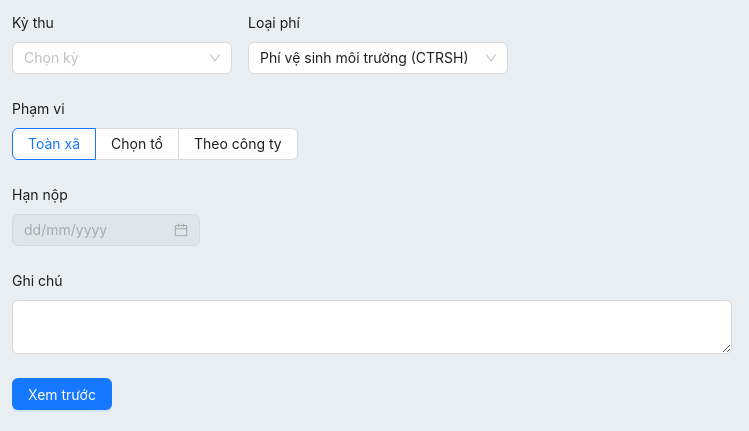
Test: ChargeRequestForm › thiếu kỳ thì báo lỗi; kỳ đã khóa không có trong danh sách
Click the button "Xem trước" at x=62, y=394, box [12,378,112,410]
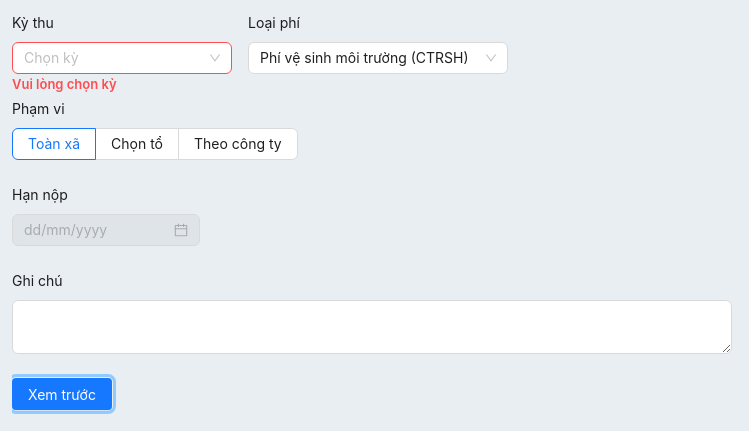
Expected: the text "Vui lòng chọn kỳ" is shown, [12,76,117,92]
Click the dropdown labelled "Kỳ thu" at x=40, y=23, box [12,12,68,34]
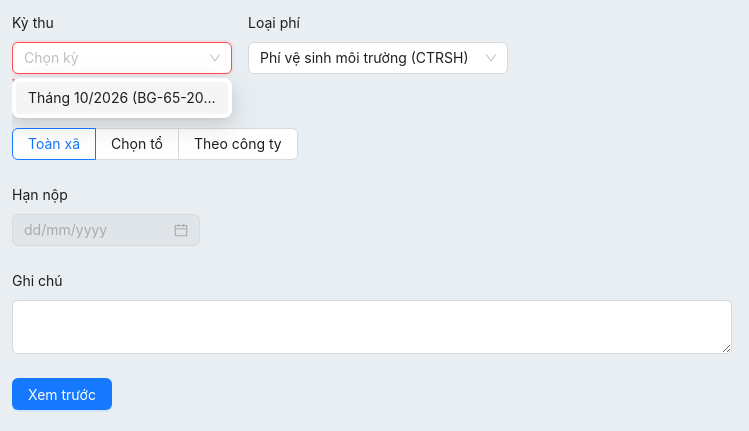
Expected: the element titled "Tháng 10/2026 (BG-65-2026)" is shown, [16,82,228,114]
